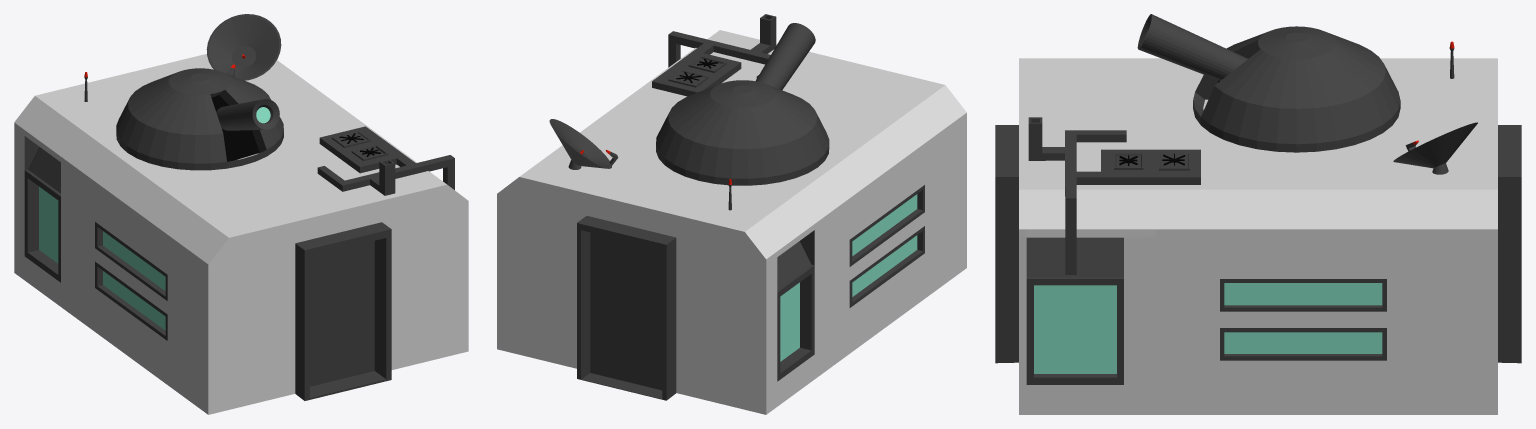
3 views of the same model, side by side, from view 1: azimuth 30°, elevation 25°; view 2: azimuth 150°, elevation 25°; view 3: azimuth 270°, elevation 25° (orthographic). The views are drawn at different scales.
Parts seen in each view (by area): view 1: Lab, Observatory, Ventilation, Radar; view 2: Lab, Observatory, Ventilation, Radar; view 3: Lab, Observatory, Ventilation, Radar.
Boxes of the visible parts, x1,y1,x2,y2 form: Lab: [14, 54, 468, 414]; Observatory: [116, 68, 283, 170]; Ventilation: [317, 126, 454, 195]; Radar: [206, 14, 281, 80]; Lab: [497, 30, 966, 414]; Observatory: [656, 23, 829, 185]; Ventilation: [652, 14, 776, 96]; Radar: [549, 119, 618, 169]; Lab: [995, 58, 1521, 414]; Observatory: [1137, 14, 1400, 152]; Ventilation: [1028, 117, 1200, 274]; Radar: [1393, 122, 1477, 174].
Size of the model in its own units: 323 by 291 by 450.
